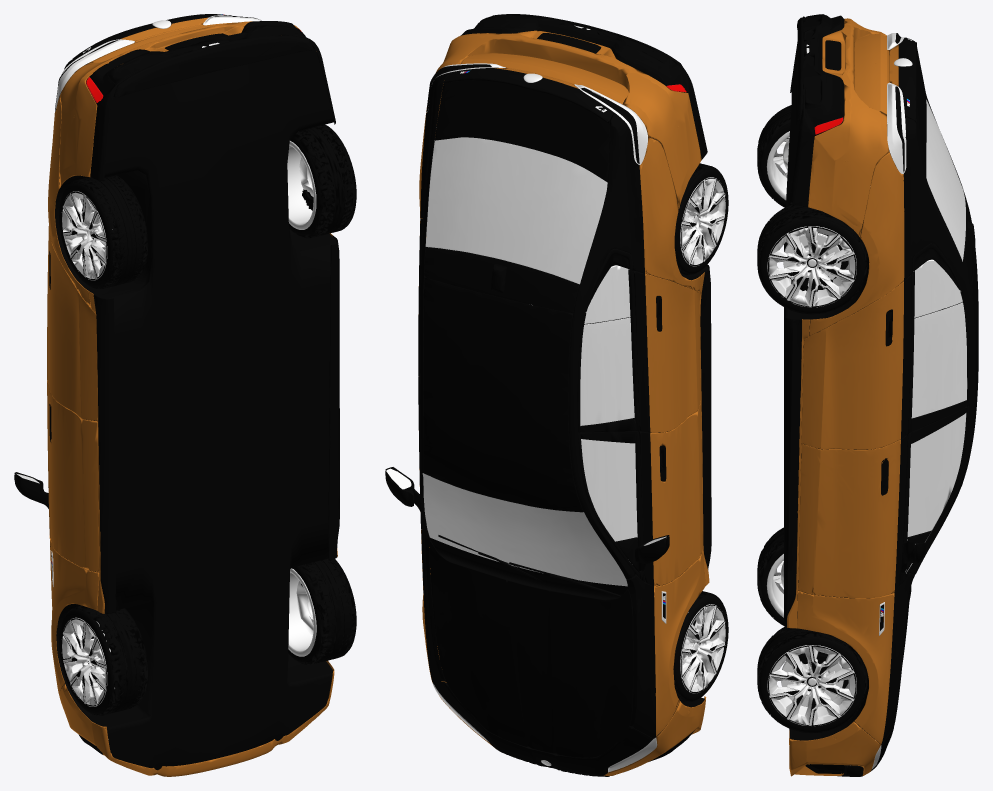
3 views of the same model, side by side, from view 1: azimuth 30°, elevation 25°; view 2: azimuth 150°, elevation 25°; view 3: azimuth 270°, elevation 25° (orthographic).
Visible parts, largest first — view 1: Object_15, Object_22, Object_9, Object_14, Object_13, Object_23, Object_19, Object_8, Object_10, Object_18, Object_11, Object_12 (+3 smaller); view 2: Object_8, Object_2, Object_10, Object_22, Object_9, Object_7, Object_23, Object_19, Object_15, Object_11, Object_12; view 3: Object_22, Object_23, Object_2, Object_8, Object_18, Object_9, Object_7, Object_11, Object_14, Object_15, Object_10, Object_13 (+3 smaller).
Boxes of the visible parts, x1,y1,x2,y2 form: Object_15: (55, 33, 336, 770); Object_22: (47, 17, 334, 776); Object_9: (49, 14, 339, 754); Object_14: (66, 124, 356, 714); Object_13: (67, 420, 356, 715); Object_23: (47, 22, 337, 613); Object_19: (61, 191, 114, 706); Object_8: (48, 21, 335, 752); Object_10: (50, 35, 314, 688); Object_18: (287, 141, 316, 656); Object_11: (59, 33, 356, 714); Object_12: (15, 15, 309, 706); Object_8: (418, 14, 707, 776); Object_2: (422, 25, 657, 772); Object_10: (421, 14, 681, 776); Object_22: (418, 30, 706, 775); Object_9: (426, 64, 711, 776); Object_7: (385, 72, 696, 626); Object_23: (418, 53, 709, 585); Object_19: (680, 177, 725, 693); Object_15: (423, 33, 726, 758); Object_11: (538, 33, 728, 700); Object_12: (454, 72, 725, 774); Object_22: (789, 18, 904, 776); Object_23: (787, 33, 903, 628); Object_2: (806, 33, 967, 768); Object_8: (790, 14, 978, 776); Object_18: (767, 226, 856, 726); Object_9: (784, 33, 975, 773); Object_7: (798, 94, 975, 664); Object_11: (759, 40, 865, 732); Object_14: (757, 105, 867, 731); Object_15: (757, 38, 971, 769); Object_10: (791, 17, 914, 776); Object_13: (757, 303, 900, 733).
Size of the model in its own units: 10.18 by 25.03 by 7.09.
